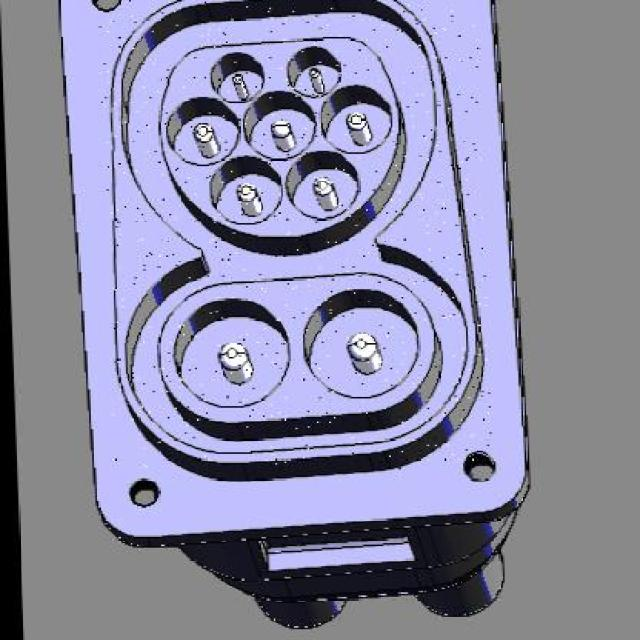CCS2: (64, 0, 536, 539)
